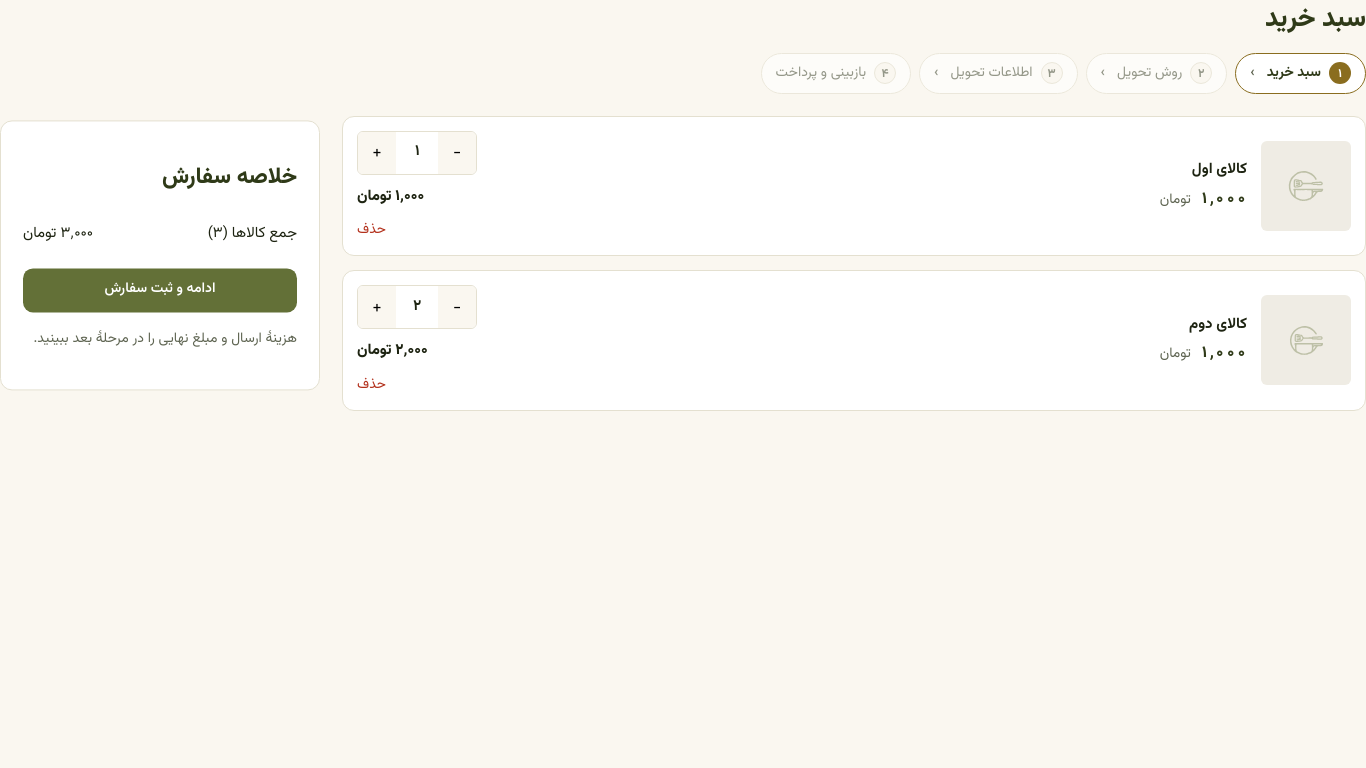
cart destructive actions use the styled dialog › asks in the dialog before removing a line; «انصراف» keeps it, «حذف» deletes
Expected: the link "کالای اول" is shown, [1192,158,1247,181]
// Cancel: no request, the line stays.
Click the 1st button with class "link-danger" at [372, 230], box [357,219,386,241]
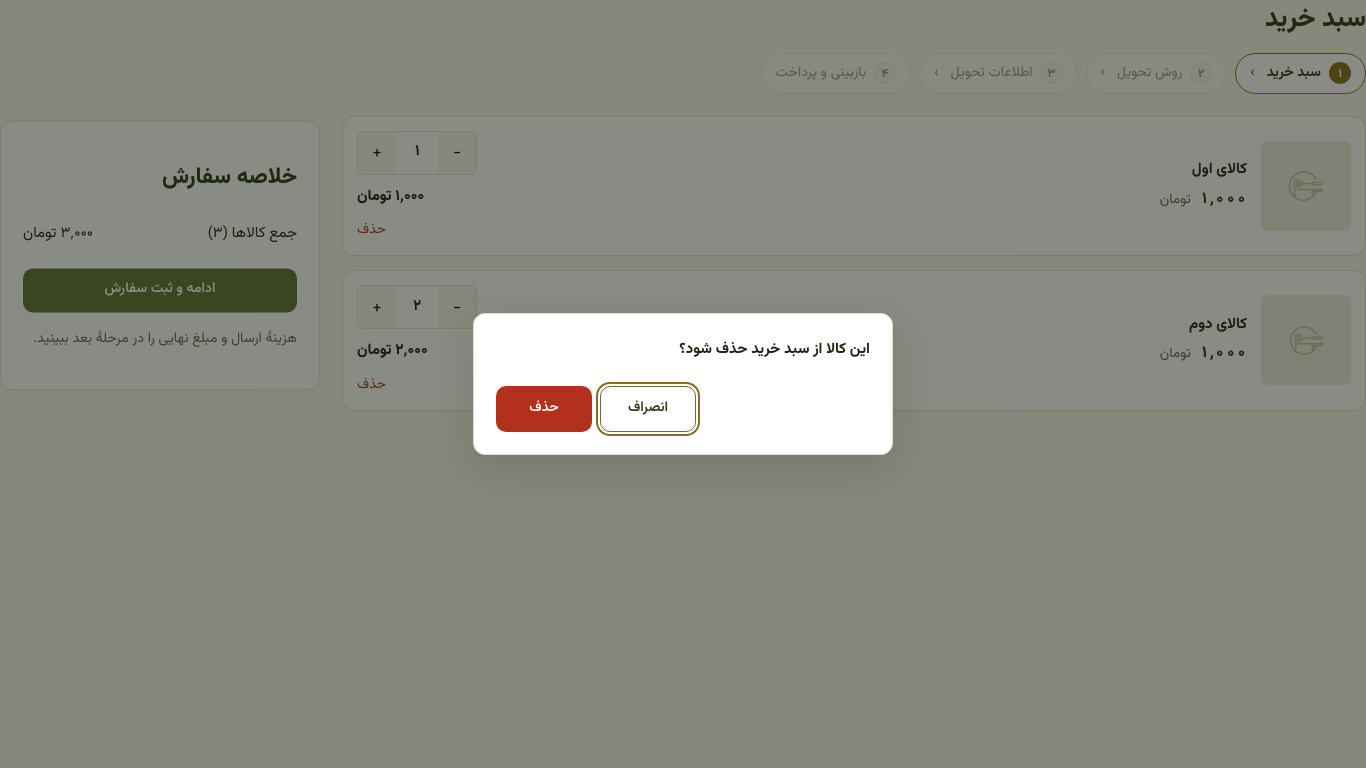
Now the text "این کالا از سبد خرید حذف شود؟" is shown, box [679,338,870,361]
Click the button "انصراف" at [648, 409], box [600,386,696,432]
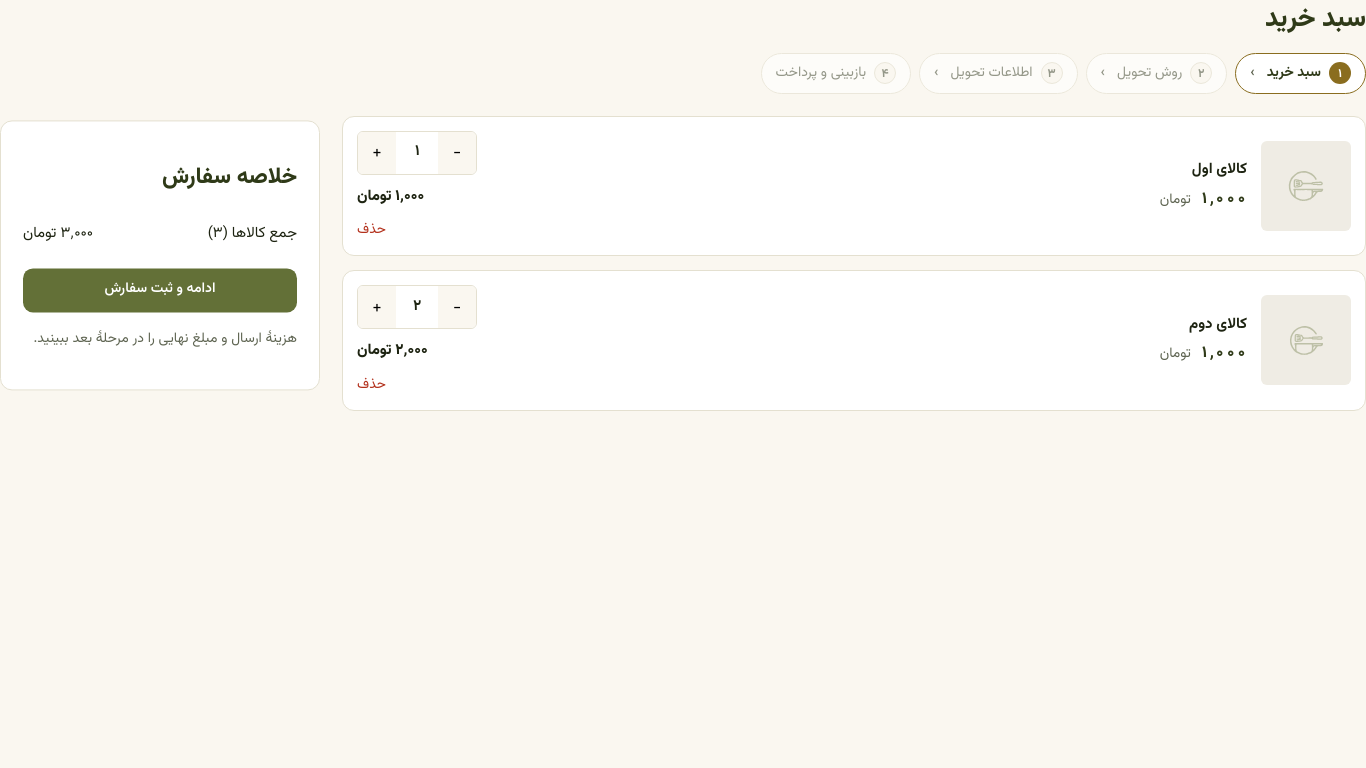
Expected: the link "کالای اول" is shown, [1192,158,1247,181]
Now the dialog is gone
// Confirm: exactly one DELETE, the line is gone, the other stays.
Click the 1st button with class "link-danger" at [372, 230], box [357,219,386,241]
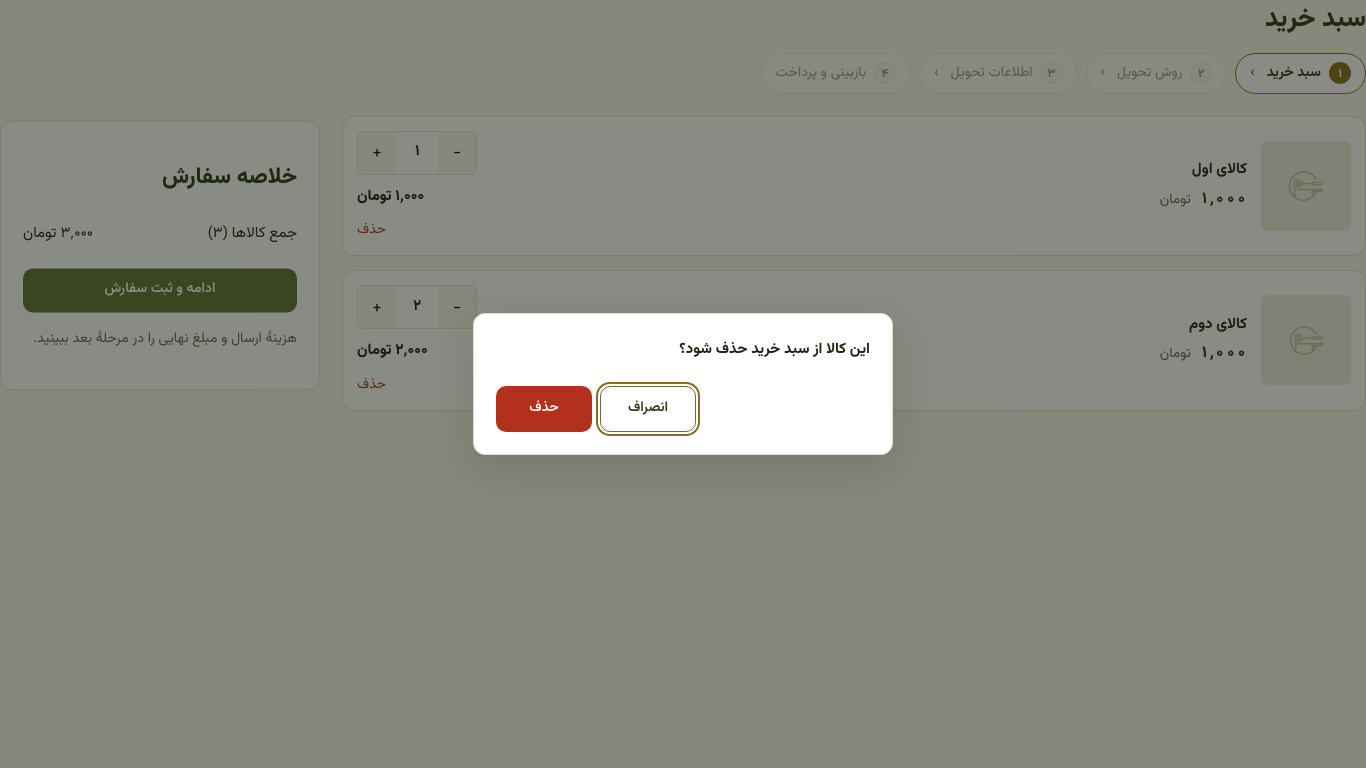
Click the button "حذف" at [544, 409], box [496,386,592,432]
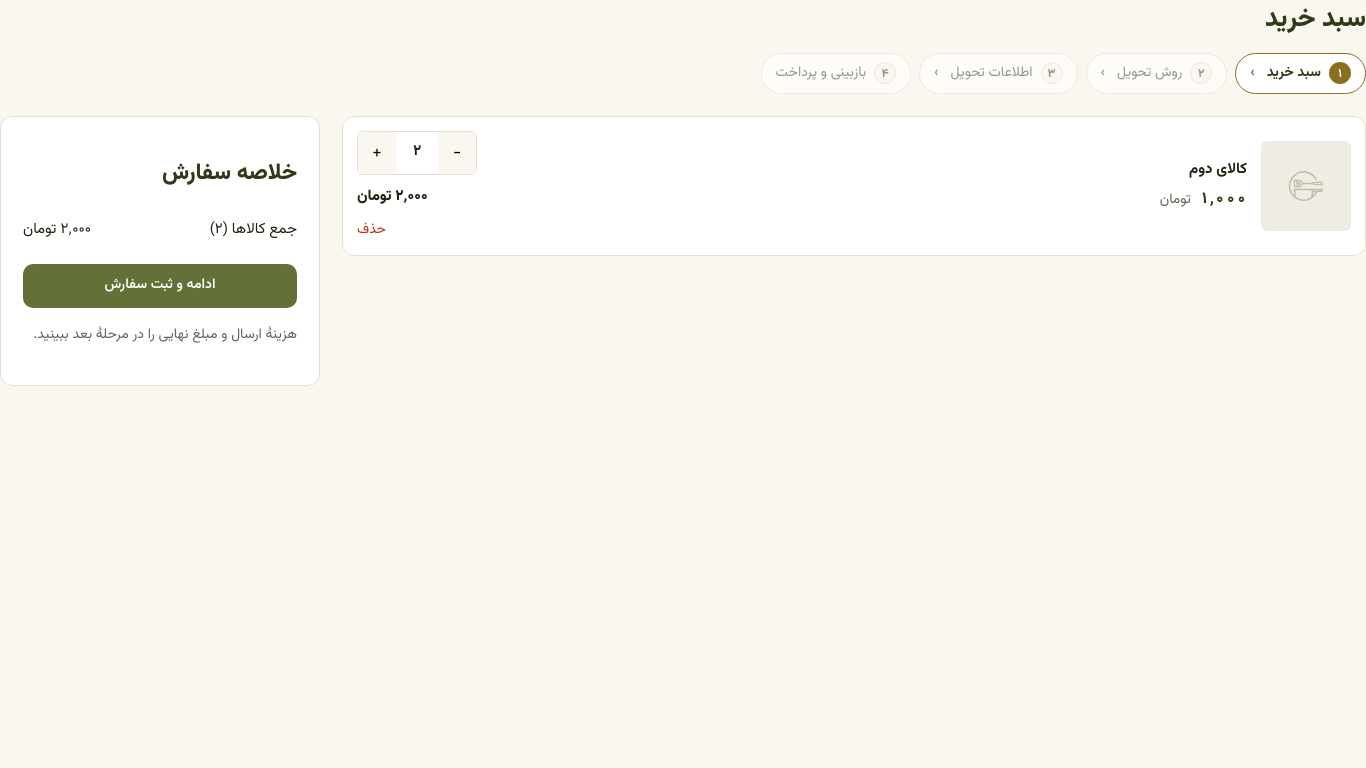
Expected: the link "کالای دوم" is shown, [1189,158,1247,181]
Now the link "کالای اول" is gone
